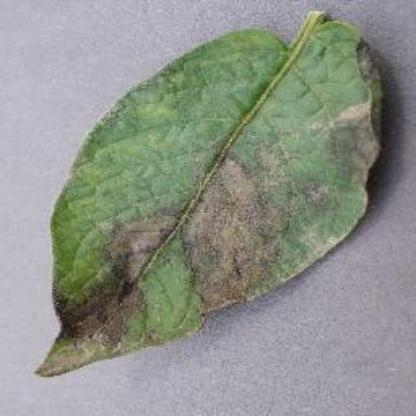Late-Blight: (18, 7, 392, 381)
